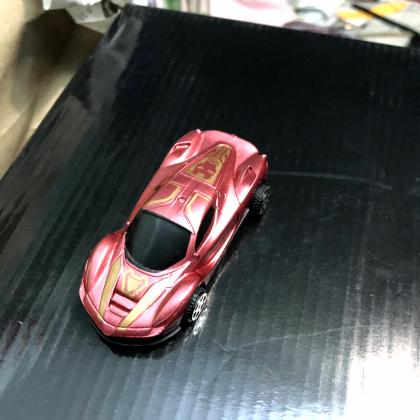Car: (78, 129, 272, 348)
